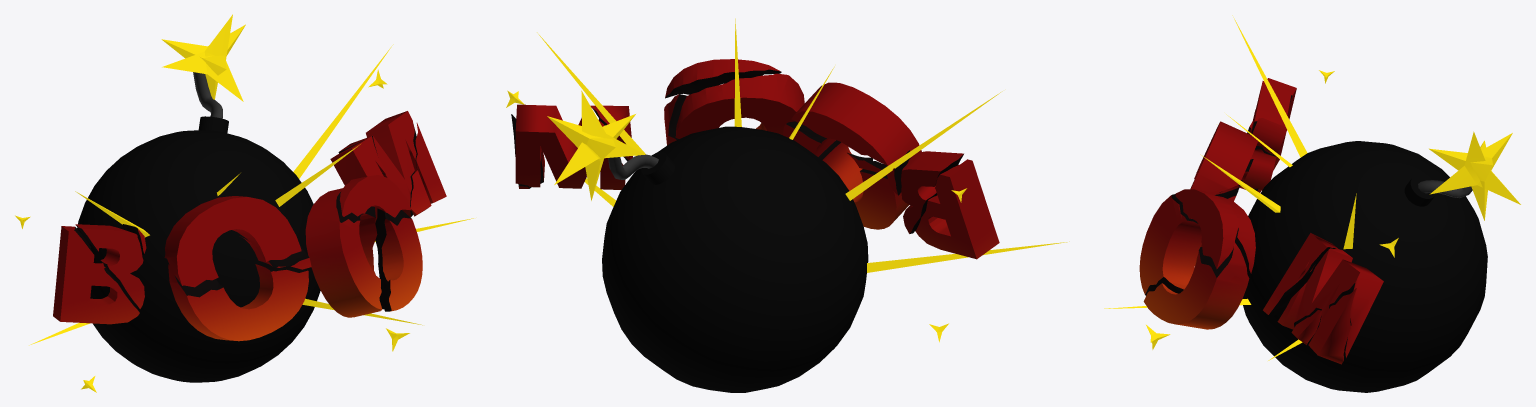
File: boom.glb
3 renders of one model, left to right at view 1: azimuth 30°, elevation 25°; view 2: azimuth 150°, elevation 25°; view 3: azimuth 270°, elevation 25°, orthographic. The views are drawn at different scales.
Parts seen in each view (by area): view 1: Letters_geo_1.20, Bomb_geo_1.17, Bomb_geo_2.18, Speedlines_geo_5.7, Bomb_geo_3.16, Speedlines_geo_3.5; view 2: Bomb_geo_1.17, Letters_geo_1.20, Bomb_geo_2.18, Speedlines_geo_6.8, Speedlines_geo_1.3, Bomb_geo_3.16, Speedlines_geo_5.7; view 3: Bomb_geo_1.17, Letters_geo_1.20, Bomb_geo_2.18, Speedlines_geo_1.3, Bomb_geo_3.16, Speedlines_geo_3.5.
Boxes of the visible parts, x1=… form: Letters_geo_1.20: x1=53, y1=111, x2=446, y2=341; Bomb_geo_1.17: x1=77, y1=116, x2=320, y2=382; Bomb_geo_2.18: x1=161, y1=14, x2=245, y2=101; Speedlines_geo_5.7: x1=293, y1=44, x2=393, y2=178; Bomb_geo_3.16: x1=193, y1=72, x2=222, y2=118; Speedlines_geo_3.5: x1=275, y1=144, x2=360, y2=206; Bomb_geo_1.17: x1=602, y1=126, x2=868, y2=392; Letters_geo_1.20: x1=511, y1=59, x2=999, y2=259; Bomb_geo_2.18: x1=547, y1=90, x2=644, y2=200; Speedlines_geo_6.8: x1=867, y1=241, x2=1069, y2=272; Speedlines_geo_1.3: x1=845, y1=91, x2=1002, y2=200; Bomb_geo_3.16: x1=608, y1=154, x2=658, y2=179; Speedlines_geo_5.7: x1=537, y1=32, x2=645, y2=155; Bomb_geo_1.17: x1=1242, y1=141, x2=1487, y2=392; Letters_geo_1.20: x1=1139, y1=78, x2=1383, y2=364; Bomb_geo_2.18: x1=1429, y1=131, x2=1520, y2=220; Speedlines_geo_1.3: x1=1232, y1=15, x2=1307, y2=157; Bomb_geo_3.16: x1=1418, y1=180, x2=1472, y2=198; Speedlines_geo_3.5: x1=1200, y1=154, x2=1280, y2=212.
Size of the model in its own units: 5.5 by 3.25 by 4.24.
Materials: 16 (13 with a texture image).
